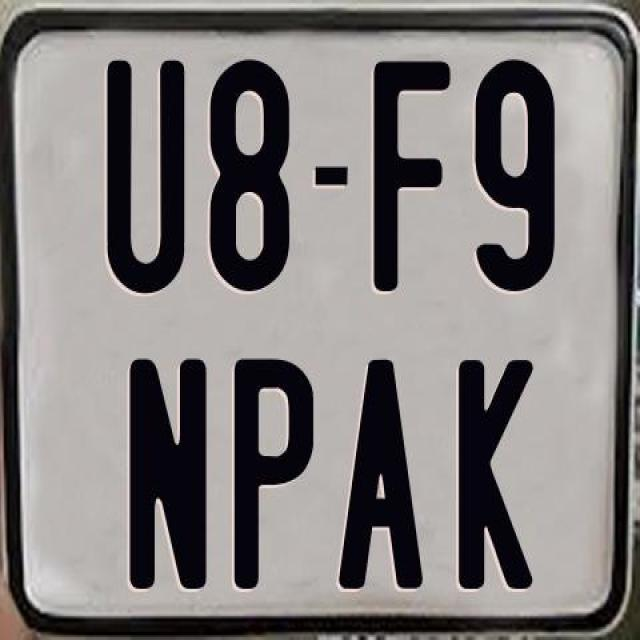8: (210, 54, 298, 294)
9: (474, 58, 558, 298)
A: (334, 355, 422, 584)
F: (373, 56, 452, 291)
K: (454, 358, 532, 596)
N: (128, 354, 211, 594)
P: (234, 357, 314, 590)
U: (105, 56, 188, 298)
